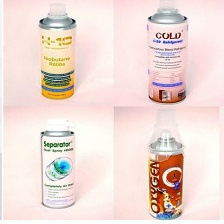aerosol_cans: (144, 0, 189, 106), (35, 0, 80, 103), (37, 115, 78, 210), (144, 128, 185, 221)
